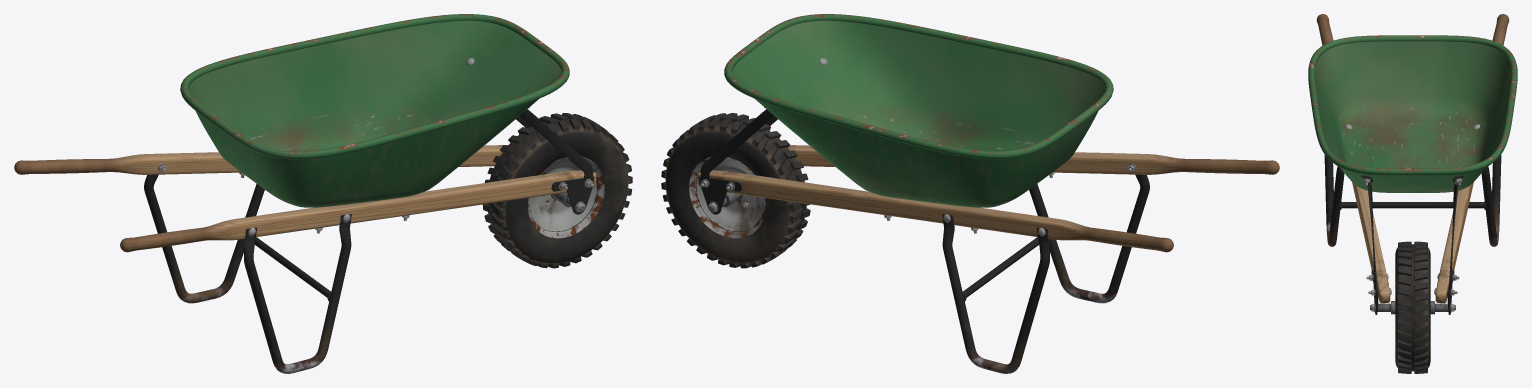
3 renders of one model, left to right at view 1: azimuth 30°, elevation 25°; view 2: azimuth 150°, elevation 25°; view 3: azimuth 270°, elevation 25°, orthographic. The views are drawn at different scales.
Parts seen in each view (by area): view 1: Asset; view 2: Asset; view 3: Asset.
Part boxes in pixels (x1,y1,x2,y2): Asset: [14, 14, 632, 373]; Asset: [661, 14, 1279, 373]; Asset: [1308, 14, 1517, 373].
Bounding box in the file's own units: 1.64 × 0.631 × 0.6267.
Materials: 4 (4 with a texture image).
